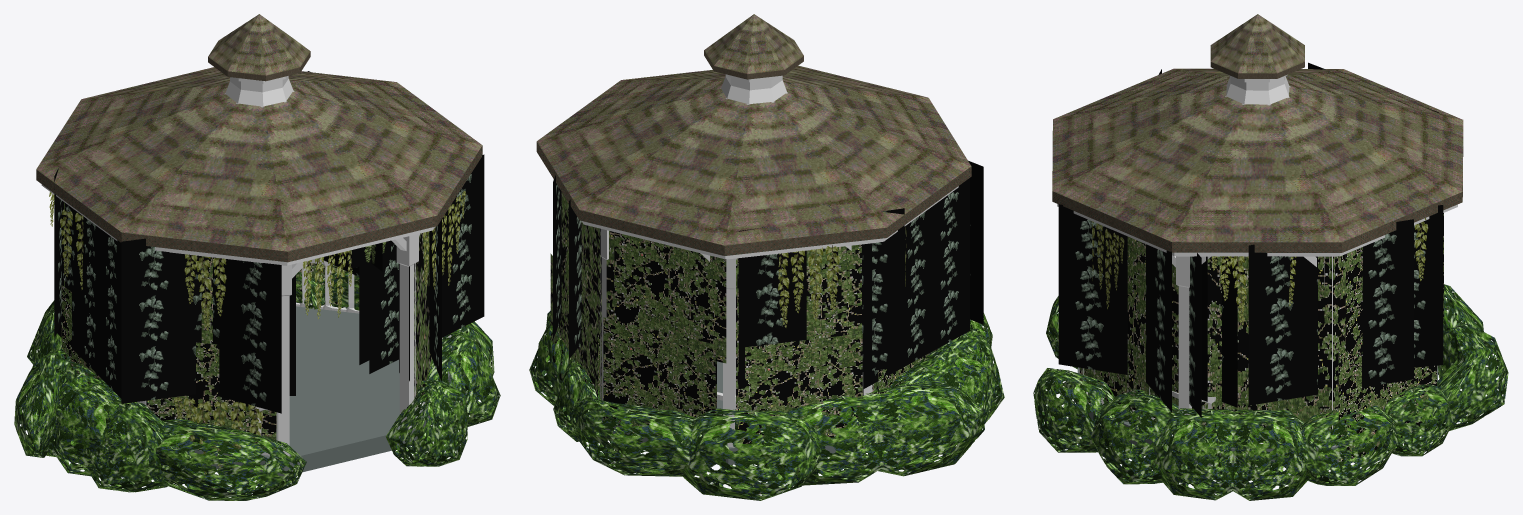
Rendered from gazebo_test3.fbx.
3 renders of one model, left to right at view 1: azimuth 30°, elevation 25°; view 2: azimuth 150°, elevation 25°; view 3: azimuth 270°, elevation 25°, orthographic. The views are drawn at different scales.
Visible parts, largest first — view 1: Cylinder.024, Cylinder.021, Plane.011, Plane.010, Plane.013, Icosphere.009, Plane.039, Icosphere.011, Icosphere.010, Icosphere.016, Cube.008, Cylinder.027 (+22 smaller); view 2: Cylinder.024, Icosphere.012, Plane.039, Plane.042, Plane.028, Icosphere.013, Plane.027, Plane.030, Icosphere.017, Plane.031, Cylinder.027, Icosphere.011 (+15 smaller); view 3: Cylinder.024, Plane.045, Icosphere.028, Plane.014, Plane.017, Icosphere.014, Icosphere.027, Icosphere.017, Icosphere.016, Plane.020, Cylinder.027, Plane.038 (+15 smaller).
Boxes of the visible parts, x1,y1,x2,y2 form: Cylinder.024: [36, 67, 482, 262]; Cylinder.021: [194, 306, 450, 476]; Plane.011: [121, 238, 201, 403]; Plane.010: [213, 257, 281, 413]; Plane.013: [369, 154, 484, 373]; Icosphere.009: [141, 418, 306, 500]; Plane.039: [57, 200, 121, 398]; Icosphere.011: [33, 361, 152, 477]; Icosphere.010: [85, 398, 191, 492]; Icosphere.016: [385, 380, 467, 466]; Cube.008: [137, 234, 451, 458]; Cylinder.027: [208, 14, 310, 81]; Cylinder.024: [536, 65, 971, 255]; Icosphere.012: [759, 380, 984, 485]; Plane.039: [863, 178, 969, 388]; Plane.042: [738, 208, 904, 388]; Plane.028: [614, 232, 726, 363]; Icosphere.013: [667, 408, 821, 500]; Plane.027: [603, 317, 715, 435]; Plane.030: [738, 333, 862, 449]; Icosphere.017: [572, 397, 729, 476]; Plane.031: [737, 244, 861, 363]; Cylinder.027: [704, 14, 803, 79]; Icosphere.011: [874, 343, 991, 457]; Cylinder.024: [1052, 68, 1463, 252]; Plane.045: [1248, 219, 1413, 405]; Icosphere.028: [1151, 408, 1316, 500]; Plane.014: [1058, 204, 1127, 374]; Plane.017: [1192, 256, 1331, 432]; Icosphere.014: [1282, 405, 1397, 485]; Icosphere.027: [1091, 389, 1208, 484]; Icosphere.017: [1425, 323, 1508, 430]; Icosphere.016: [1033, 368, 1119, 452]; Plane.020: [1079, 236, 1178, 418]; Cylinder.027: [1210, 14, 1304, 78]; Plane.038: [1414, 205, 1443, 367].
Bounding box in the file's own units: 4379 × 3849 × 4185.
9 materials, 6 textured.
